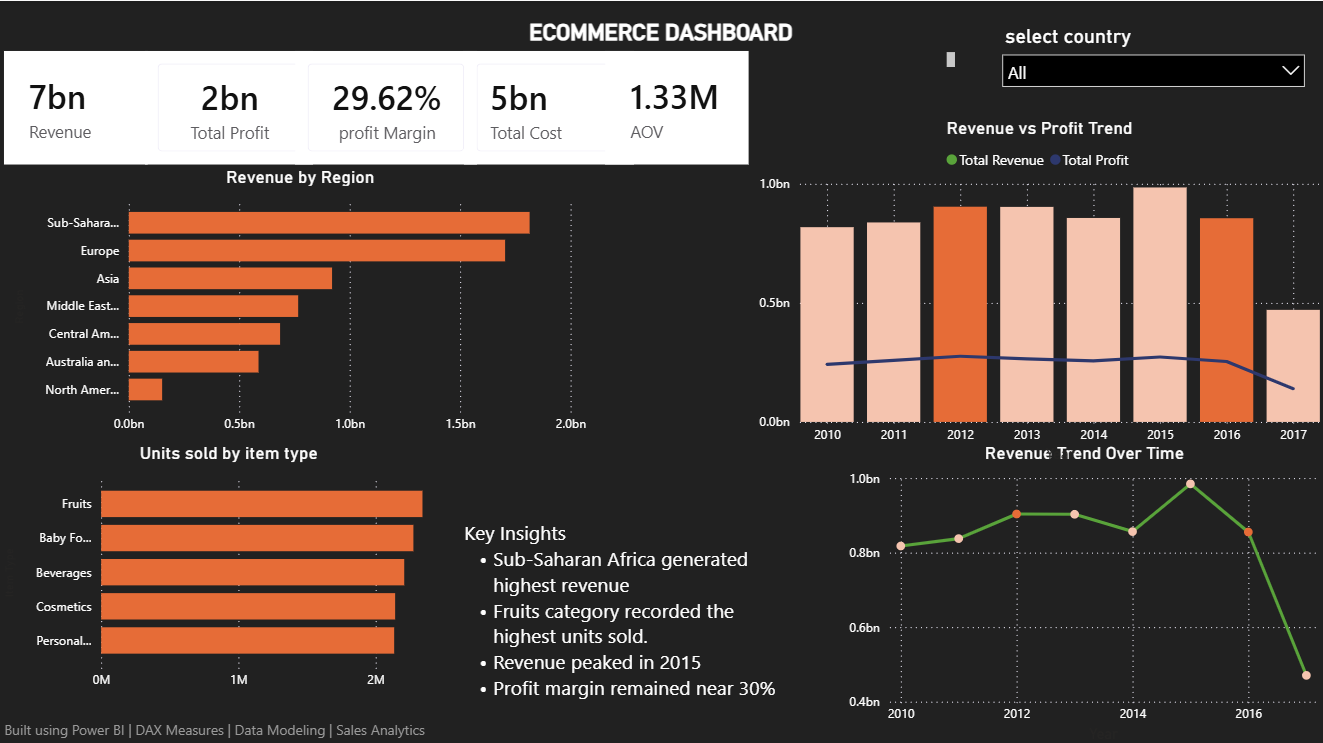

What the dashboard file says about the page in this screenshot:
{"tool":"powerbi","page":{"name":"Page 1","canvas":[1280,720],"ordinal":0},"visuals":[{"type":"textbox","title":"ECOMMERCE DASHBOARD","box":[349.9,18.1,577.9,50.7],"z":0},{"type":"barChart","title":"Units sold by item type","fields":{"Y":["Sum(5000 Sales Records.Units Sold)"],"Category":["5000 Sales Records.Item Type"]},"box":[0,425.9,444,247.3],"z":1000},{"type":"cardVisual","fields":{"Data":["Sum(5000 Sales Records.Total Profit)"]},"box":[136.3,43.4,171.3,119.4],"z":2000},{"type":"cardVisual","fields":{"Data":["Sum(5000 Sales Records.Total Revenue)"]},"box":[0,43.4,148.4,119.4],"z":3000},{"type":"cardVisual","fields":{"Data":["Sum(5000 Sales Records.Total Cost)"]},"box":[444,43.4,174.9,119.4],"z":4000},{"type":"clusteredBarChart","title":"Revenue by Region","fields":{"Category":["5000 Sales Records.Region"],"Y":["Sum(5000 Sales Records.Total Revenue)"]},"box":[9.7,159.3,562.2,266.6],"z":5000},{"type":"lineChart","title":"Revenue Trend Over Time","fields":{"Category":["5000 Sales Records.Order Date.Variation.Date Hierarchy.Year","5000 Sales Records.Order Date.Variation.Date Hierarchy.Month"],"Y":["Sum(5000 Sales Records.Total Revenue)"]},"box":[815.6,425.9,464.5,294.4],"z":6000},{"type":"lineClusteredColumnComboChart","title":"Revenue vs Profit Trend","fields":{"Category":["5000 Sales Records.Order Date.Variation.Date Hierarchy.Year","5000 Sales Records.Order Date.Variation.Date Hierarchy.Quarter","5000 Sales Records.Order Date.Variation.Date Hierarchy.Month","5000 Sales Records.Order Date.Variation.Date Hierarchy.Day"],"Y":["Sum(5000 Sales Records.Total Revenue)"],"Y2":["Sum(5000 Sales Records.Total Profit)"]},"box":[728.7,112.2,551.3,337.8],"z":7000},{"type":"slicer","fields":{"Values":["5000 Sales Records.Region","5000 Sales Records.Country","5000 Sales Records.Item Type","5000 Sales Records.Sales Channel","5000 Sales Records.Order Priority","5000 Sales Records.Order Date.Variation.Date Hierarchy.Year"]},"box":[957.9,18.1,312.5,109.8],"z":8000},{"type":"cardVisual","fields":{"Data":["5000 Sales Records.PM Ratio"]},"box":[281.1,43.4,185.8,119.4],"z":9000},{"type":"cardVisual","fields":{"Data":["5000 Sales Records.Average Order Value"]},"box":[580.3,43.4,148.4,119.4],"z":10000},{"type":"textbox","box":[444,495.8,335.4,202.7],"z":11000},{"type":"textbox","box":[0,688.9,424.7,31.4],"z":11001}]}

Visuals, with their boxes in screenshot pixels (x1, y1, x2, y2), scaled from the page's 1280x720 canvas onto the 1323x743 screenshot:
"ECOMMERCE DASHBOARD" textbox: 362:19:959:71
"Units sold by item type" barChart: 0:440:459:695
cardVisual - Sum(5000 Sales Records.Total Profit): 141:45:318:168
cardVisual - Sum(5000 Sales Records.Total Revenue): 0:45:153:168
cardVisual - Sum(5000 Sales Records.Total Cost): 459:45:640:168
"Revenue by Region" clusteredBarChart: 10:164:591:440
"Revenue Trend Over Time" lineChart: 843:440:1322:742
"Revenue vs Profit Trend" lineClusteredColumnComboChart: 753:116:1322:464
slicer - 5000 Sales Records.Region x 5000 Sales Records.Country: 990:19:1313:132
cardVisual - 5000 Sales Records.PM Ratio: 291:45:483:168
cardVisual - 5000 Sales Records.Average Order Value: 600:45:753:168
textbox: 459:512:806:721
textbox: 0:711:439:742
